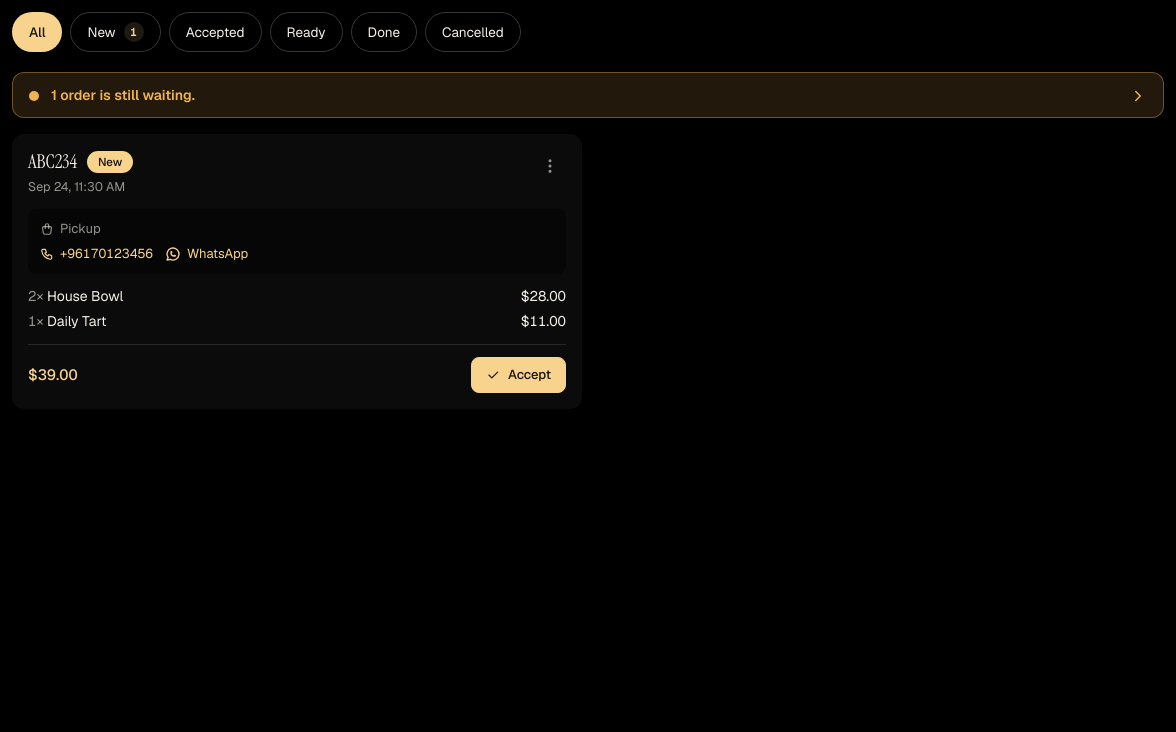
Test case: OrdersPage › accepts a new order placed in the menu first, then marks it done
The width and height of the screenshot is (1176, 732).
New: the guest following it learns a person saw it.
Click the button "Accept" at (519, 375), box x1=471 y1=357 x2=566 y2=393
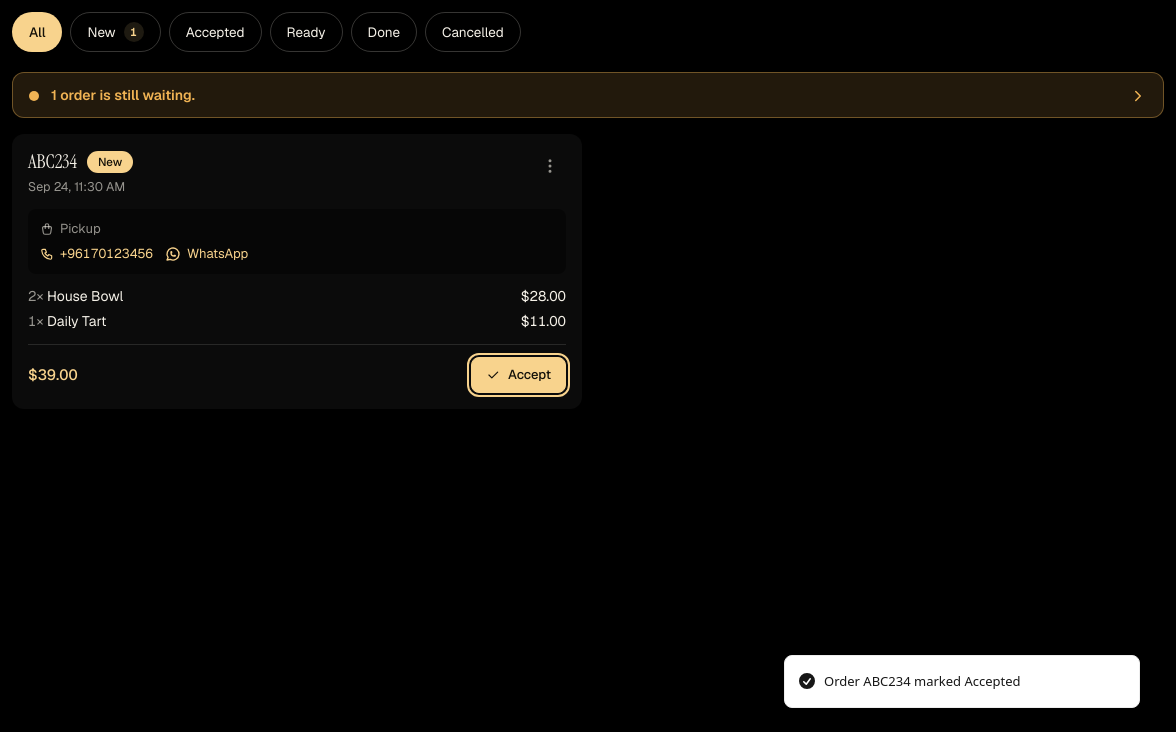
Expected: the text "Order ABC234 marked Accepted" is shown, x1=824 y1=672 x2=1021 y2=691
